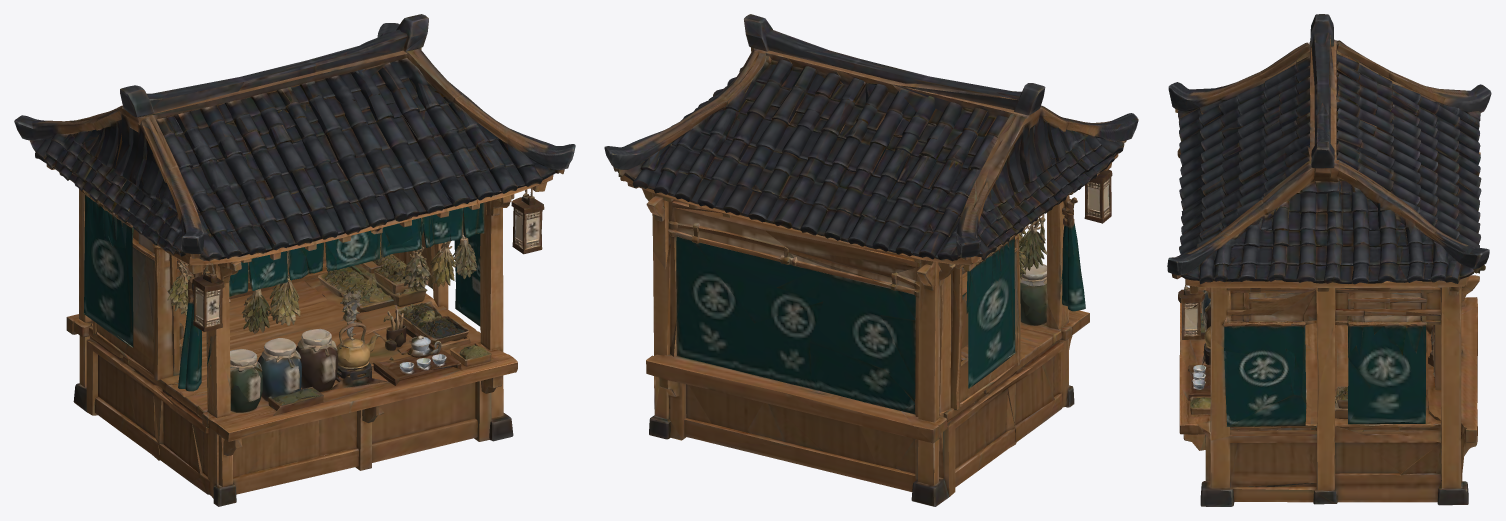
Rendered from tea.glb.
The picture shows the model from 3 angles, left to right: view 1: azimuth 30°, elevation 25°; view 2: azimuth 150°, elevation 25°; view 3: azimuth 270°, elevation 25°; orthographic projection. The views are drawn at different scales.
Visible parts, largest first — view 1: output_unwrapped; view 2: output_unwrapped; view 3: output_unwrapped.
Part boxes in pixels (box(x1,y1,x2,y2)): output_unwrapped: box(14, 14, 575, 506); output_unwrapped: box(604, 14, 1138, 506); output_unwrapped: box(1167, 14, 1491, 506).
Size of the model in its own units: 1.9 by 1.74 by 1.46.
Materials: 1 (1 with a texture image).
